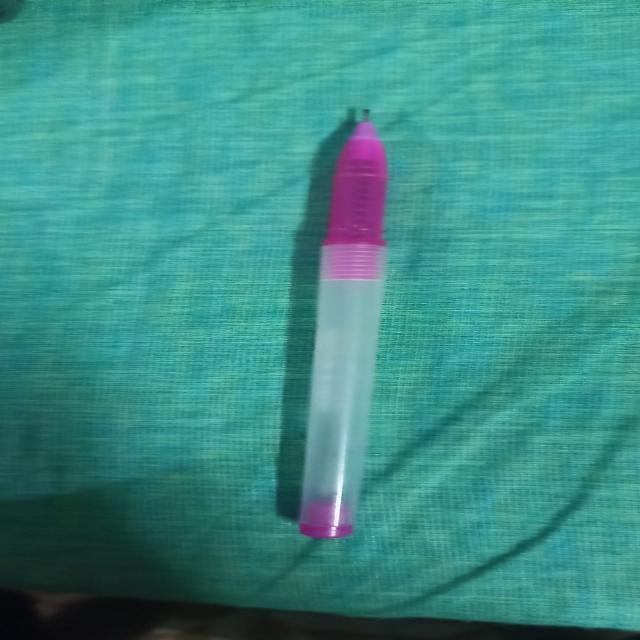pen: (282, 106, 386, 545)
